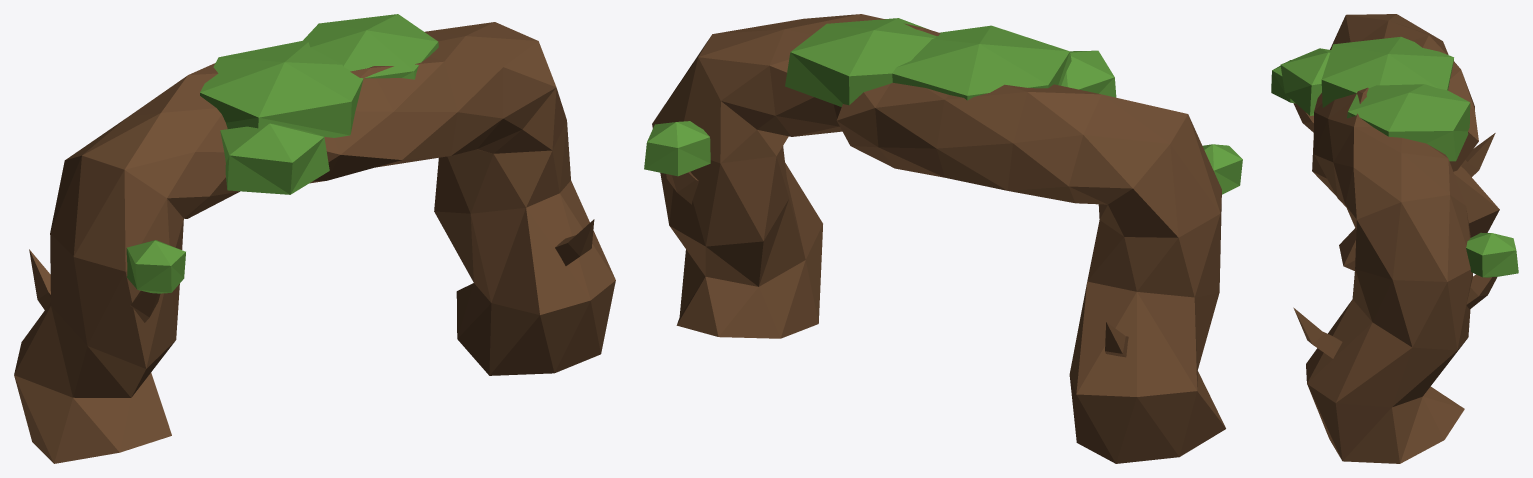
Rendered from LF_HollowArch.fbx.
3 views of the same model, side by side, from view 1: azimuth 30°, elevation 25°; view 2: azimuth 150°, elevation 25°; view 3: azimuth 270°, elevation 25° (orthographic). The views are drawn at different scales.
Parts seen in each view (by area): view 1: LF_HollowArch_Wood, LF_HollowArch_Leaf; view 2: LF_HollowArch_Wood, LF_HollowArch_Leaf; view 3: LF_HollowArch_Wood, LF_HollowArch_Leaf.
Part boxes in pixels (x1,y1,x2,y2): LF_HollowArch_Wood: (14, 22, 615, 463); LF_HollowArch_Leaf: (126, 14, 438, 293); LF_HollowArch_Wood: (652, 14, 1225, 463); LF_HollowArch_Leaf: (644, 18, 1242, 194); LF_HollowArch_Wood: (1293, 14, 1499, 463); LF_HollowArch_Leaf: (1271, 36, 1518, 277).
Bounding box in the file's own units: 30 × 18 × 14.
